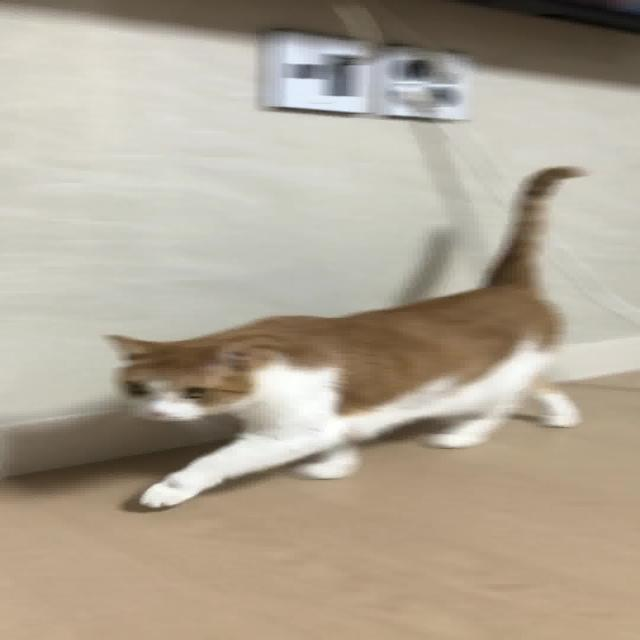cat: (81, 156, 626, 517)
